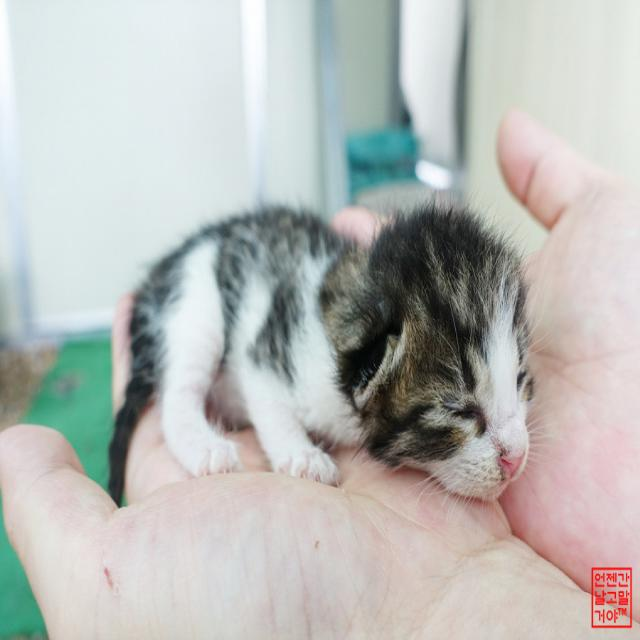cat: (63, 162, 85, 178)
